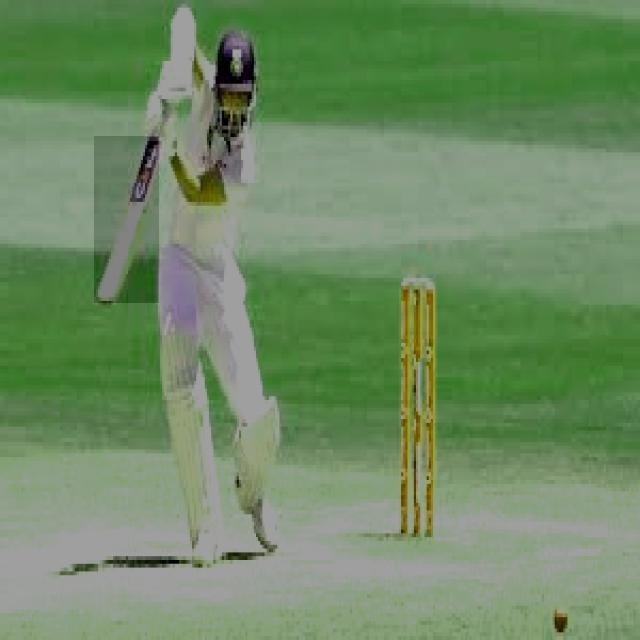bat: (95, 138, 160, 304)
toe: (95, 295, 120, 304)
